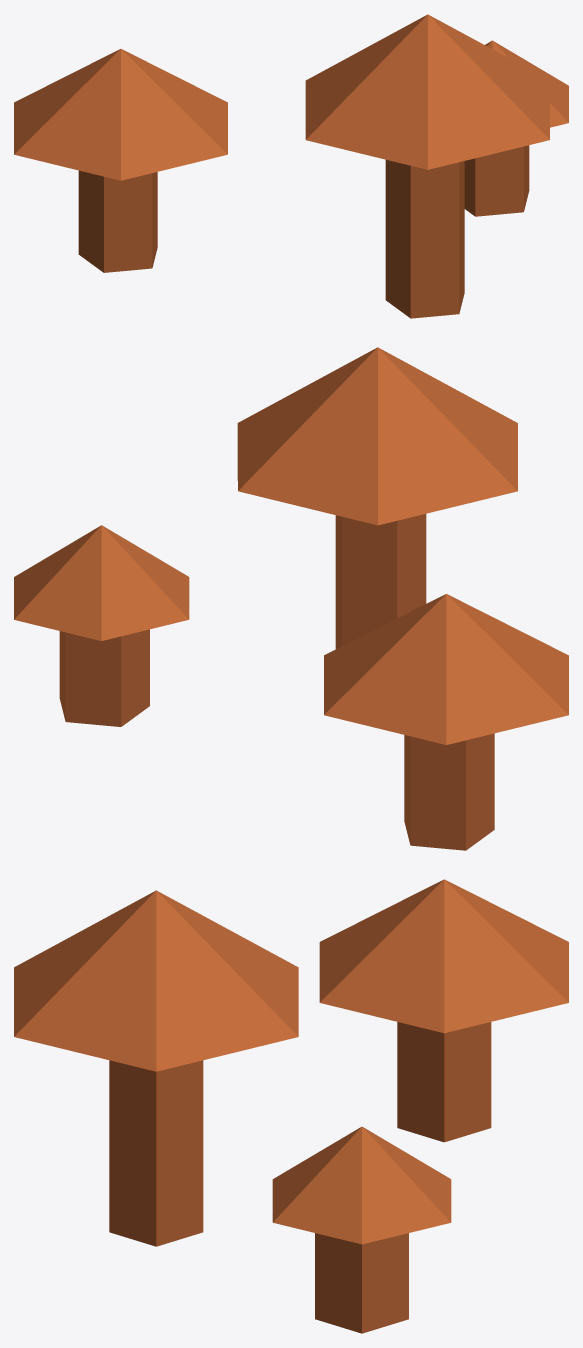
Rendered from mushrooms.obj.
The picture shows the model from 3 angles, top to bottom: view 1: azimuth 30°, elevation 25°; view 2: azimuth 150°, elevation 25°; view 3: azimuth 270°, elevation 25°; orthographic projection. The views are drawn at different scales.
Bounding box in the file's own units: 0.17 × 0.09 × 0.1349.
